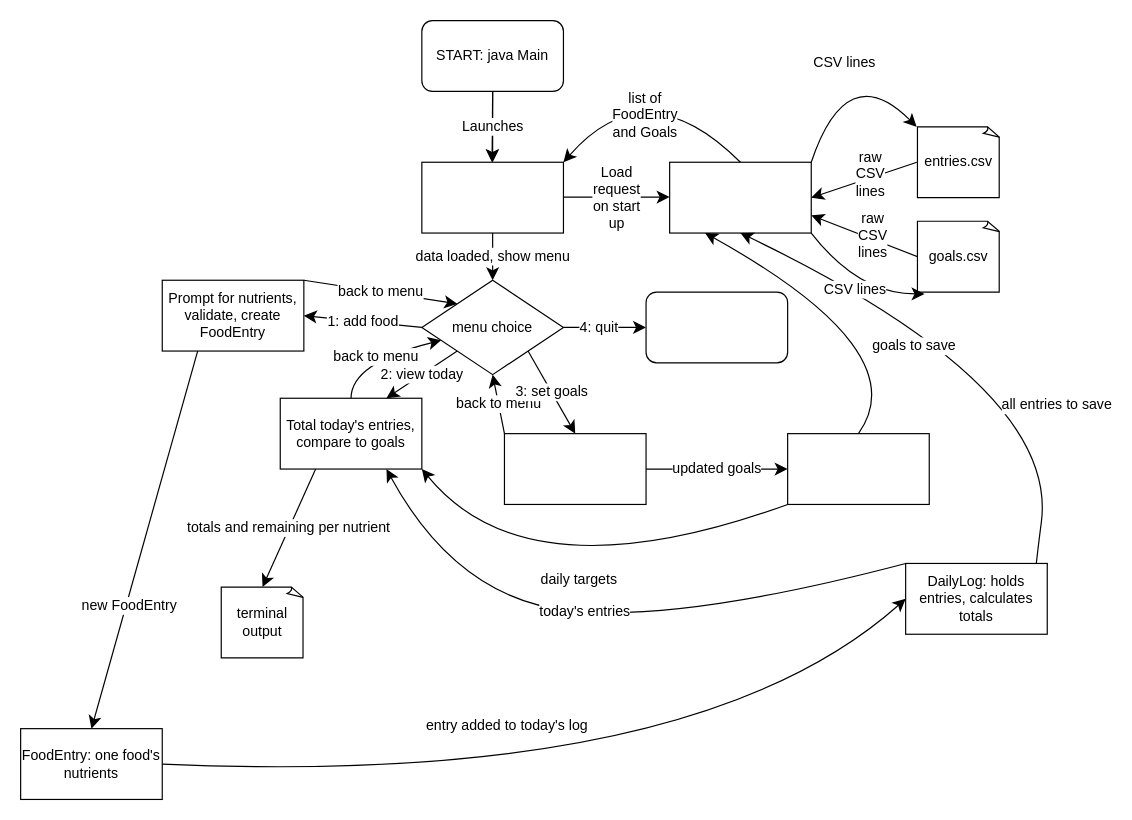
This 1132x820 diagram has some shape labels left out. The shapes that lost their labels are listed below. From the top down, each one's centre as x and y in pixels, then its label:
(x=492, y=197): Main: menu loop, user input
(x=739, y=197): FileStorage: reads and writes CSV files
(x=716, y=327): END
(x=574, y=468): Prompt for new targets, update Goals
(x=857, y=468): Goals: daily targets, remaining math
